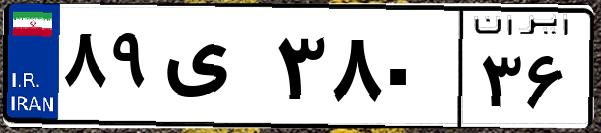0: (385, 28, 445, 110)
3: (270, 28, 330, 110), (475, 38, 525, 113)
6: (525, 38, 570, 115)
8: (330, 28, 385, 110), (57, 26, 110, 100)
9: (110, 28, 158, 98)
ی: (158, 20, 270, 120)
